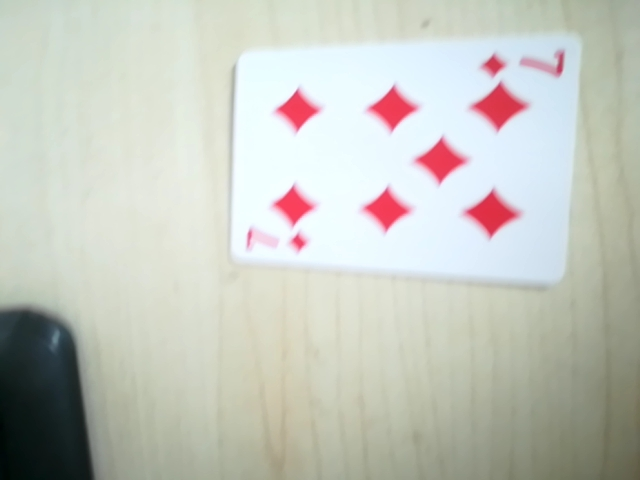fk 7: (476, 36, 573, 85), (241, 223, 312, 264)
